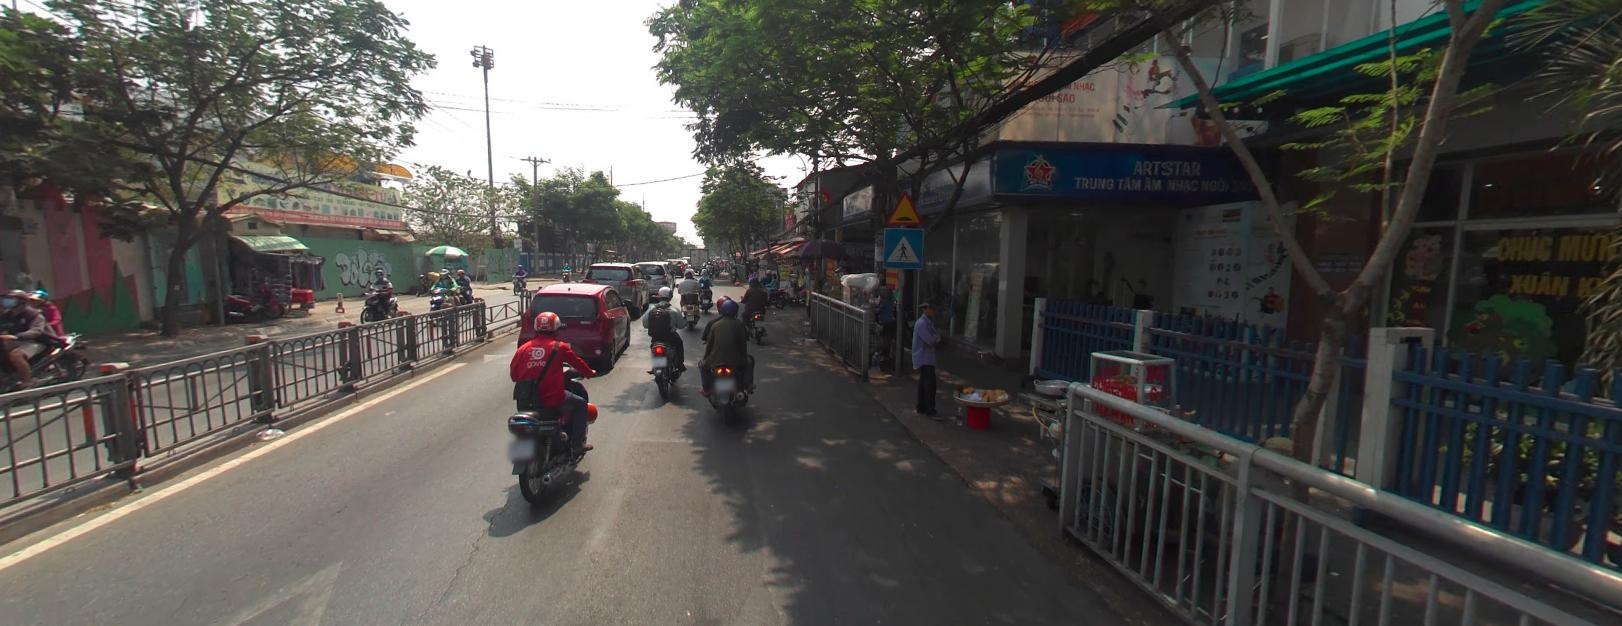Nguy hiem: (887, 189, 922, 223)
